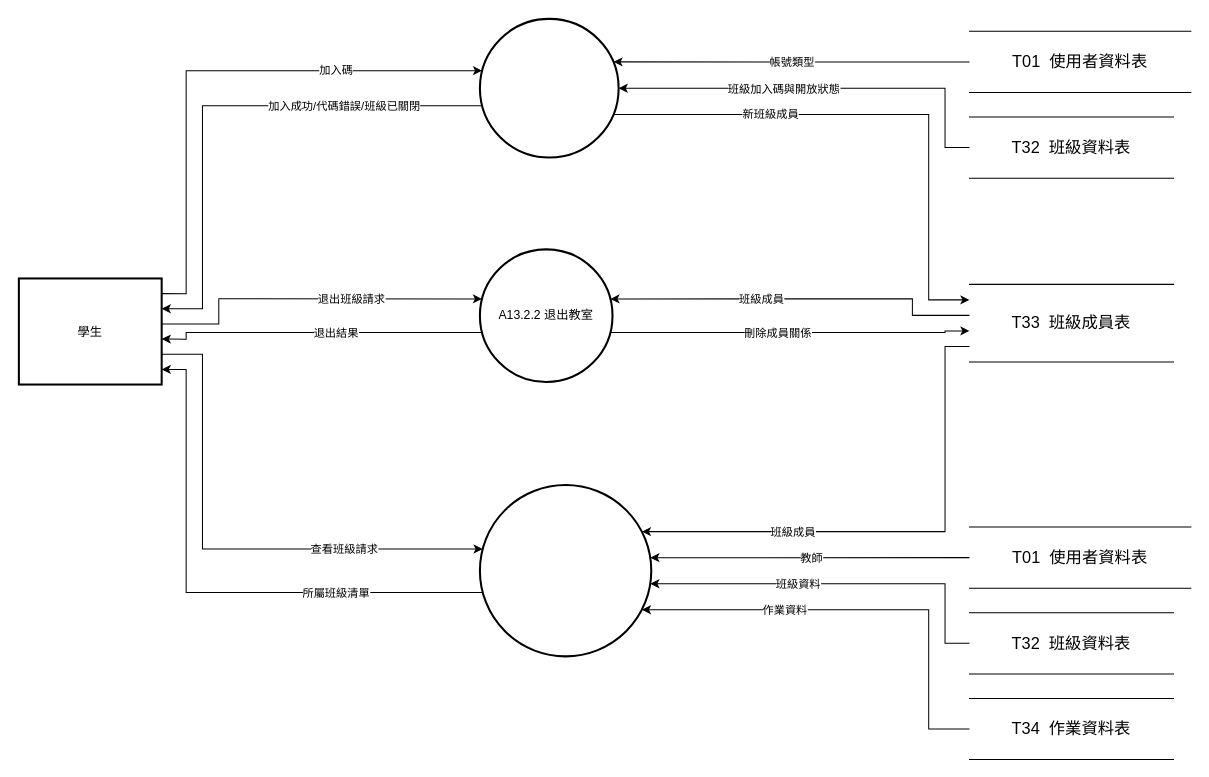
Image size: 1209x777. Some labels were removed from this diagram. Here are the shapes that lost their labels. From the top down, the box of each, then its label:
(478, 17, 619, 158): A13.2.1 新增加入教室
(478, 483, 652, 657): A13.2.3 查詢所屬教室資訊
